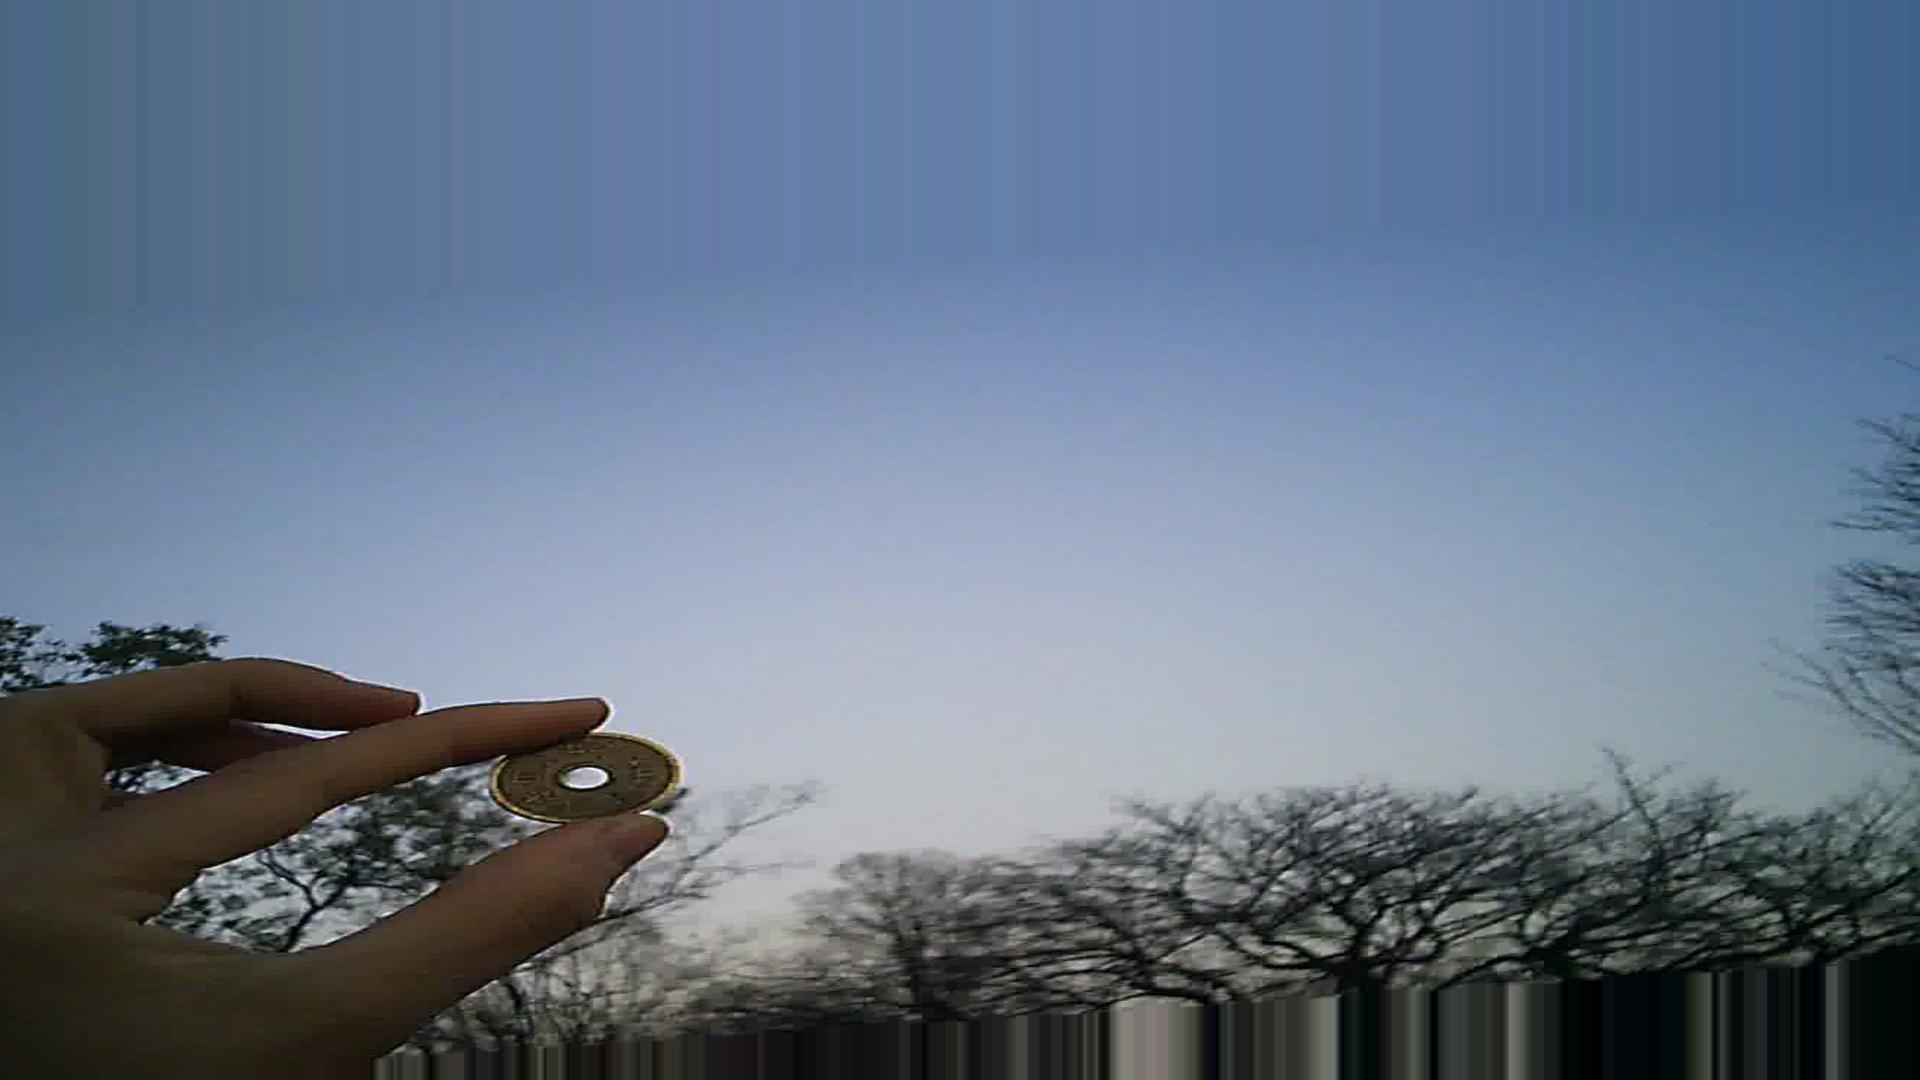5 Yen: (491, 719, 694, 822)
